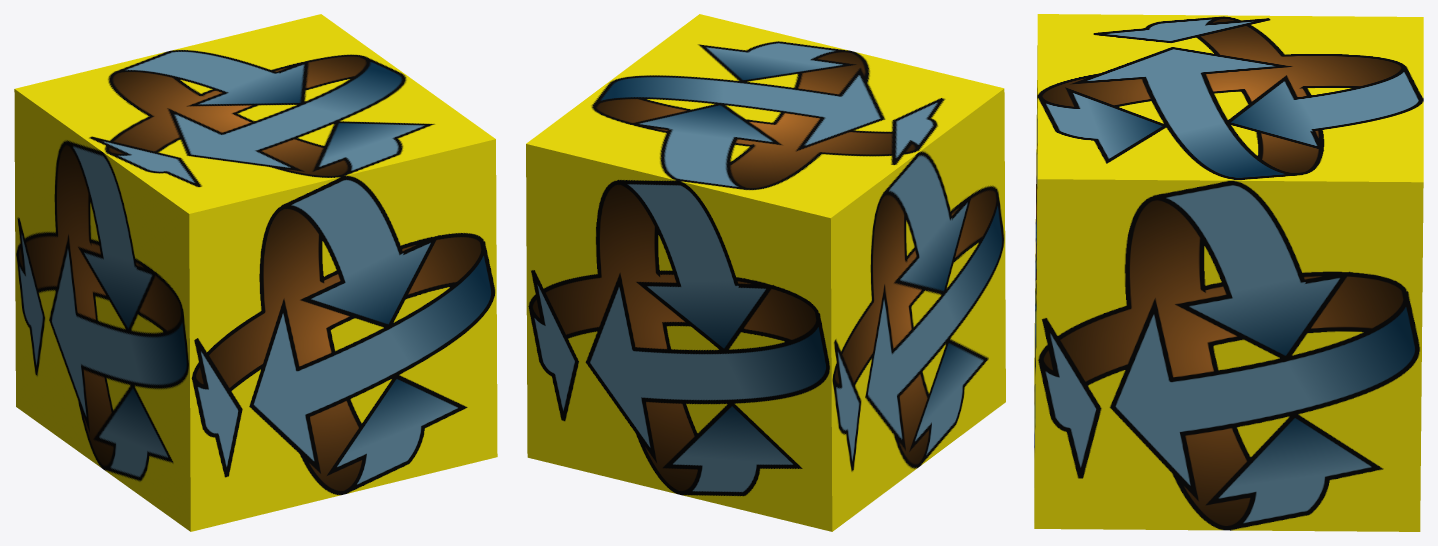
File: block_shuffle_2.FBX
The picture shows the model from 3 angles, left to right: view 1: azimuth 30°, elevation 25°; view 2: azimuth 150°, elevation 25°; view 3: azimuth 270°, elevation 25°; orthographic projection. The views are drawn at different scales.
Parts seen in each view (by area): view 1: Box001; view 2: Box001; view 3: Box001.
Part boxes in pixels (<box>): Box001: <box>14,14,497,531</box>; Box001: <box>526,14,1005,531</box>; Box001: <box>1034,14,1423,531</box>.
Bounding box in the file's own units: 101 × 101 × 101.
1 material, 1 textured.
